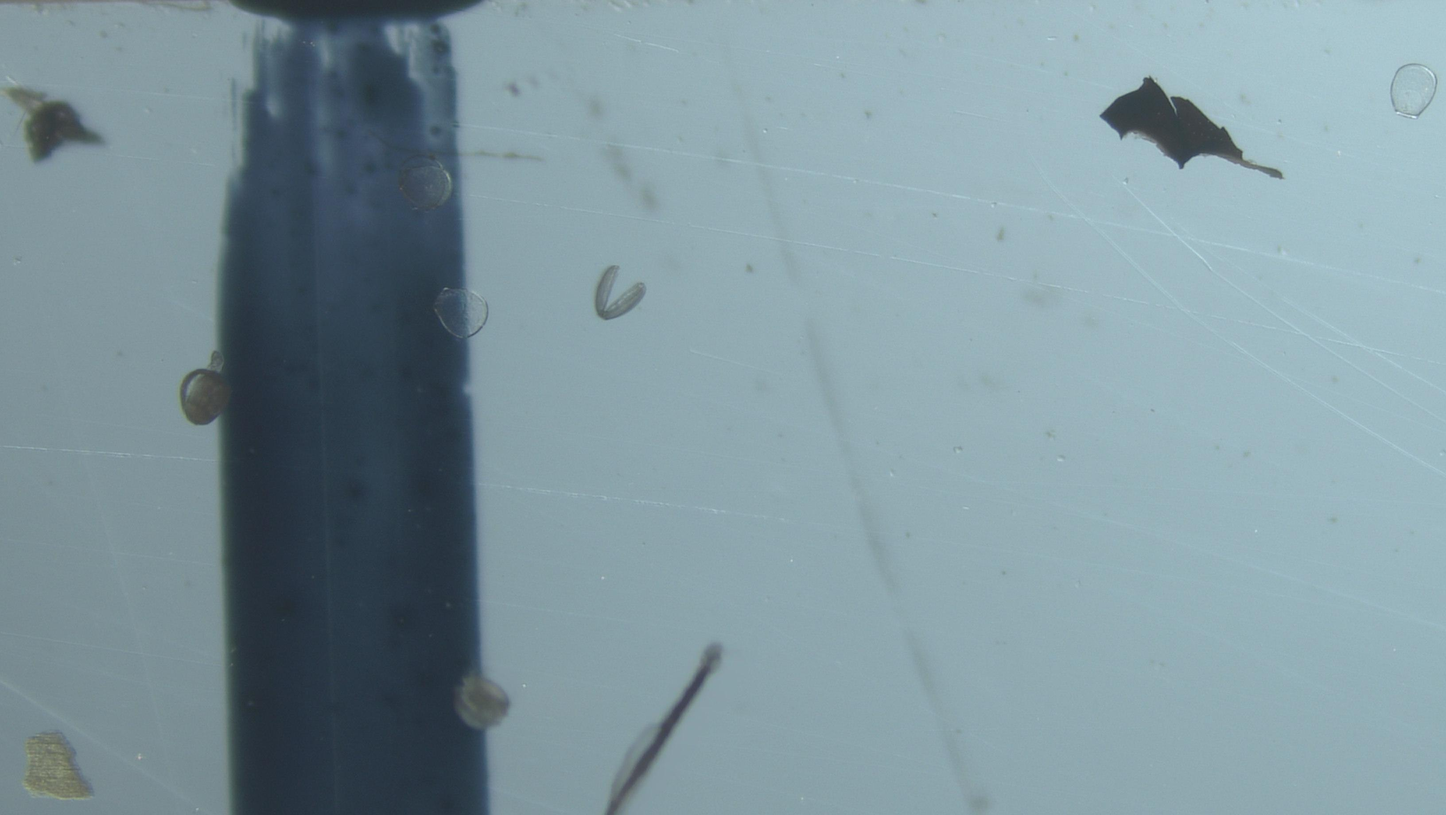dead: (435, 288, 489, 339), (1392, 64, 1438, 119)
live: (179, 350, 229, 425), (455, 669, 510, 730), (399, 157, 453, 211)
